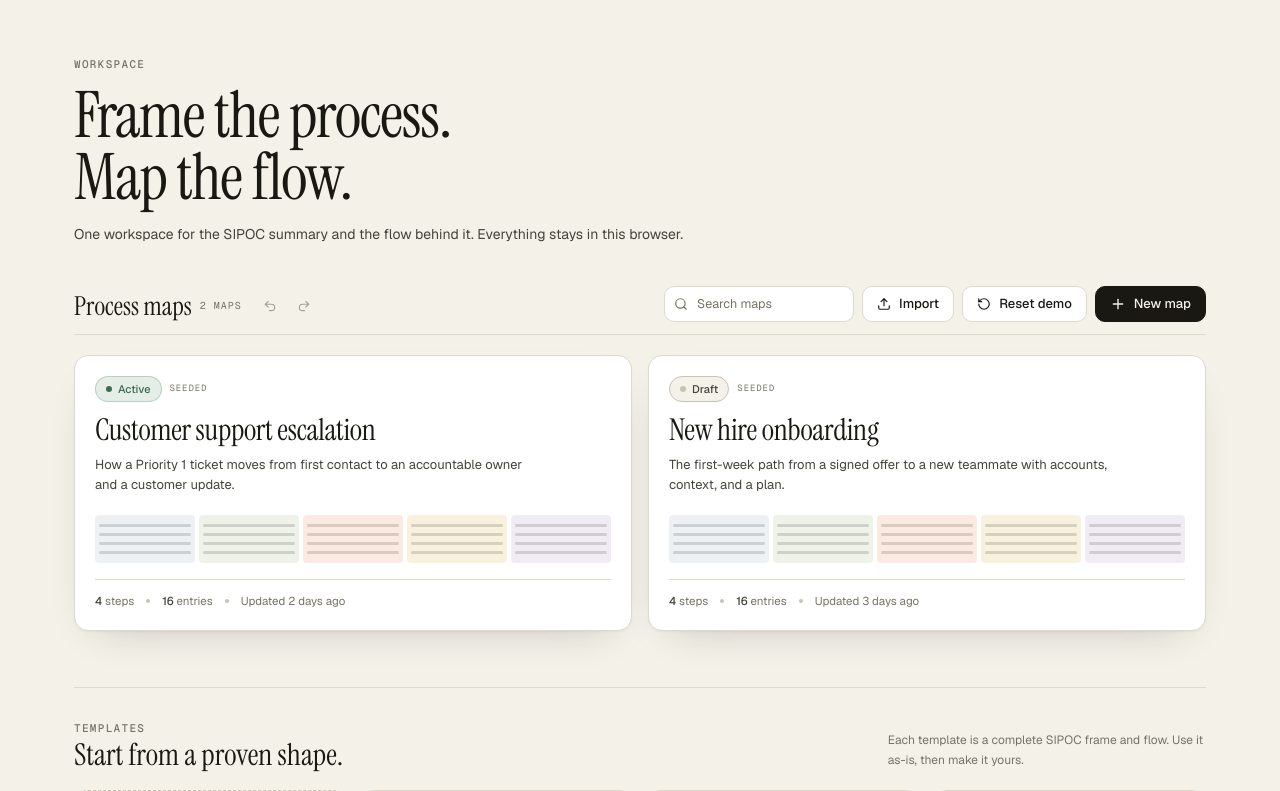
Test: dashboard search › filters by title and shows a distinct no-results state
The width and height of the screenshot is (1280, 791).
Expected: the link named "Open Customer support escalation" is shown, [75,356,631,630]
Expected: the link named "Open New hire onboarding" is shown, [649,356,1205,630]
Step 1. Type "onboarding" into the search field labelled "Search maps" → (759, 304), box [664,286,854,322]
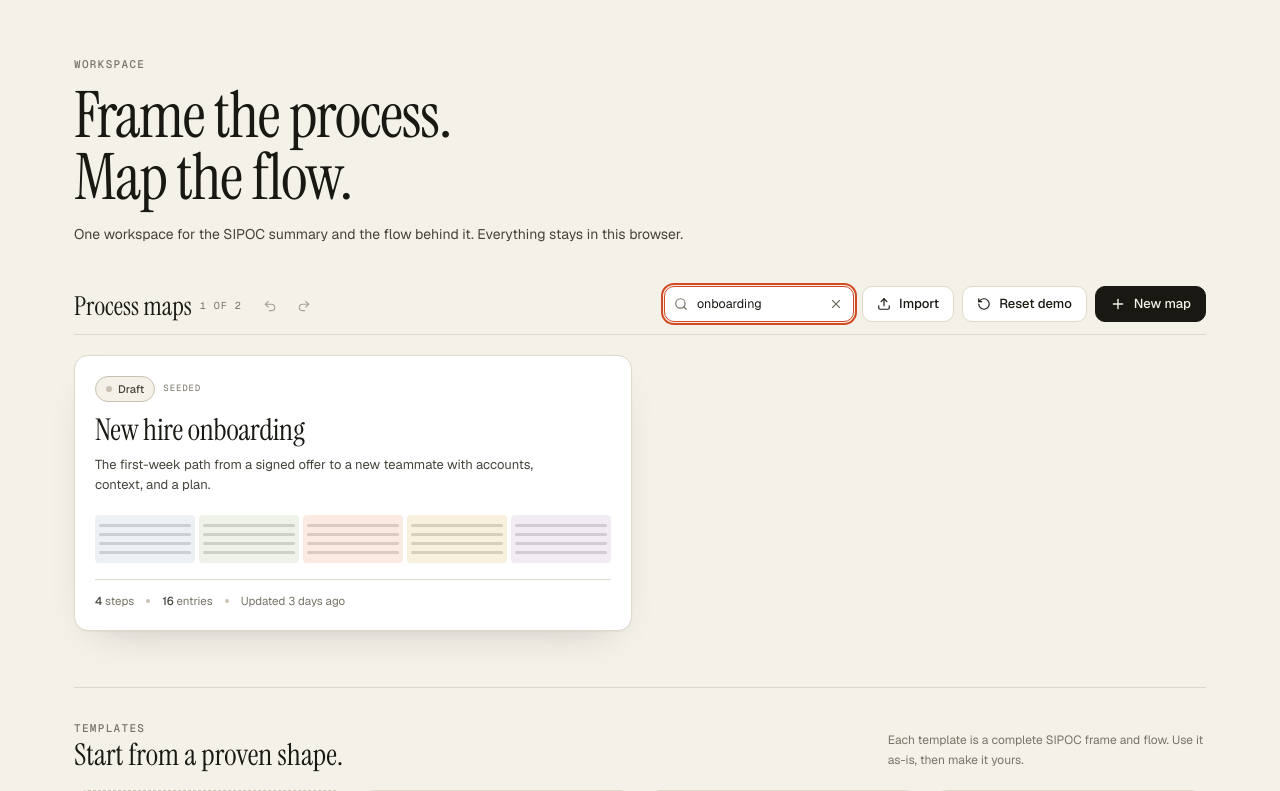
Expected: the link named "Open New hire onboarding" is shown, [75,356,631,630]
Step 2. Replace the text in the search field named "Search maps" with "payroll zebra" → (759, 304), box [664,286,854,322]
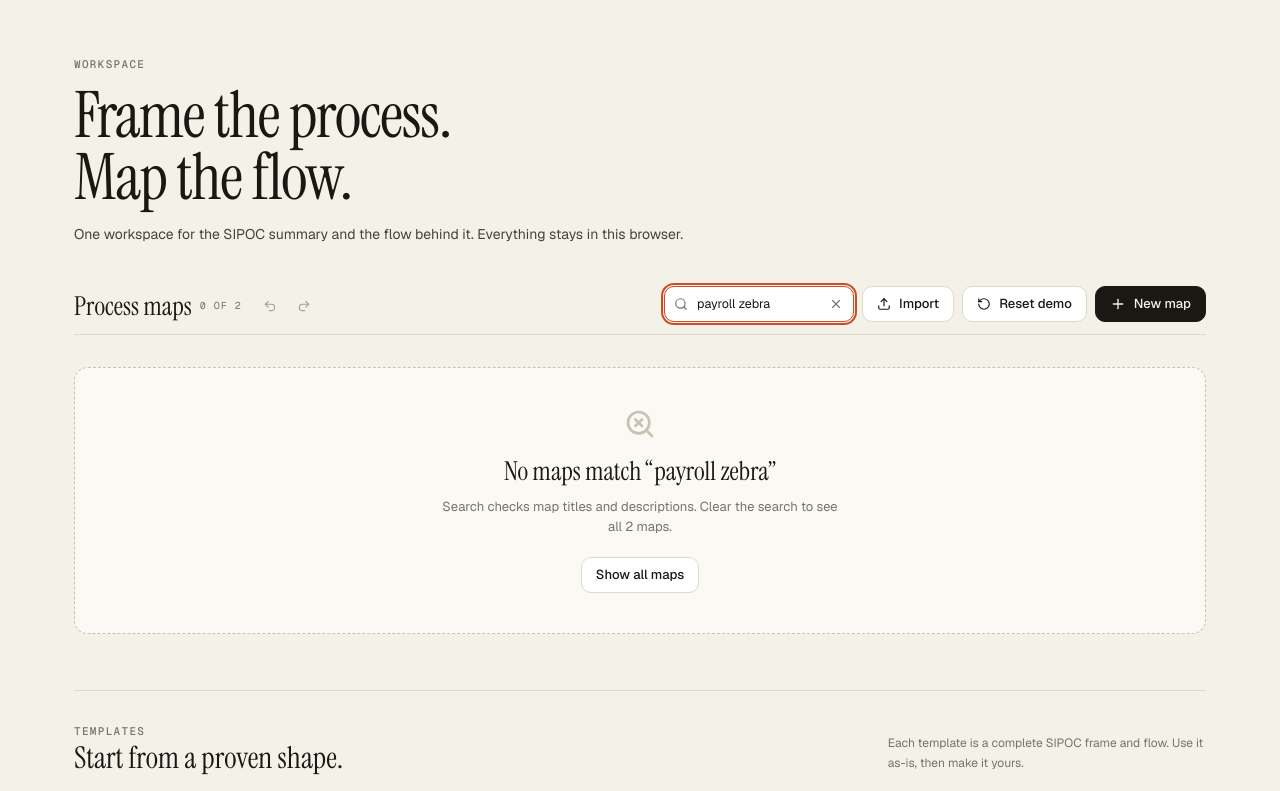
Now the heading "No maps match “payroll zebra”" is shown, box [504,454,776,488]
Now the button "Show all maps" is shown, box [581,557,699,593]
